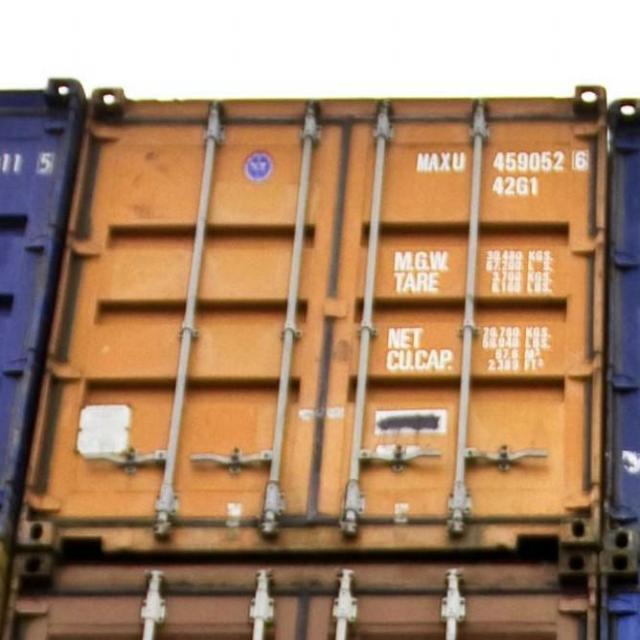ISO: (491, 178, 544, 202)
container_number: (414, 148, 592, 172)
